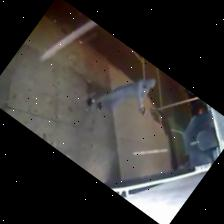person: (86, 79, 154, 114)
